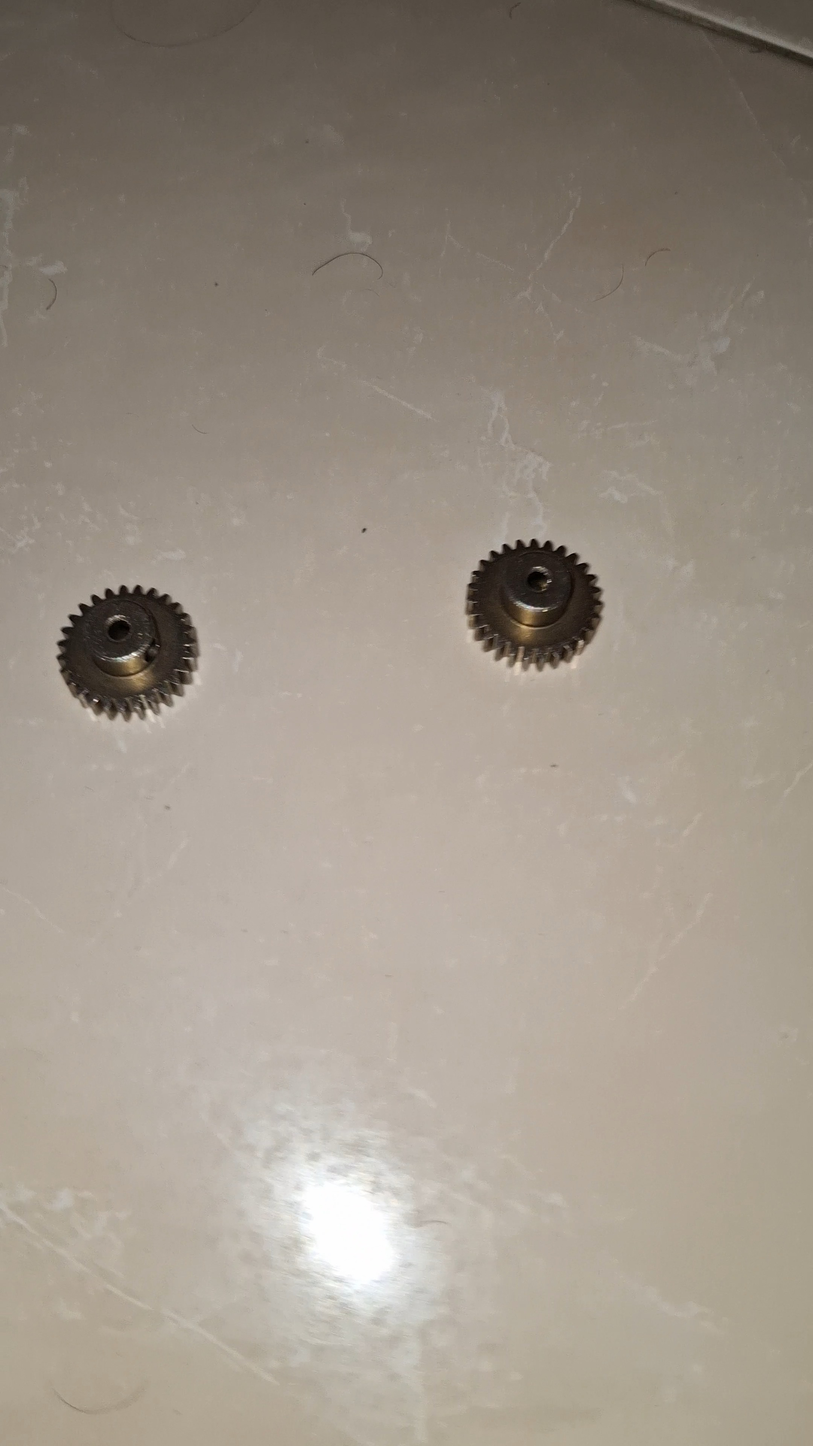spur gear: (58, 586, 197, 717), (467, 540, 601, 668)
